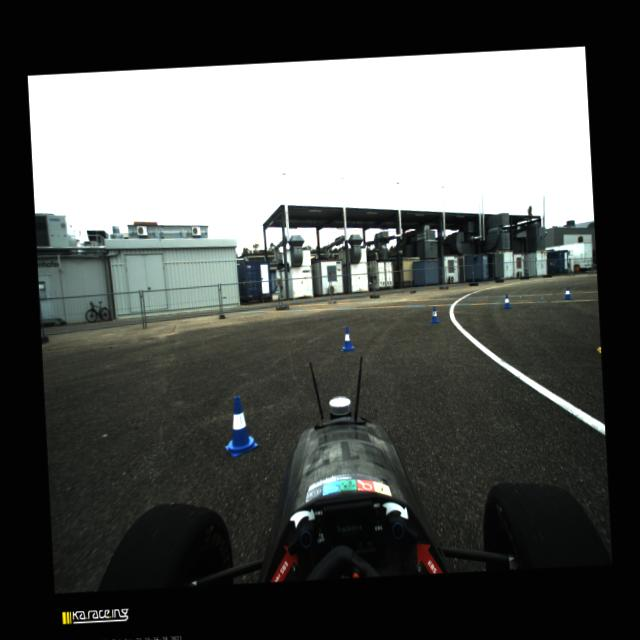blue_cone: (222, 396, 259, 458), (340, 326, 354, 352), (430, 306, 440, 323), (502, 294, 512, 309), (563, 286, 572, 300)
